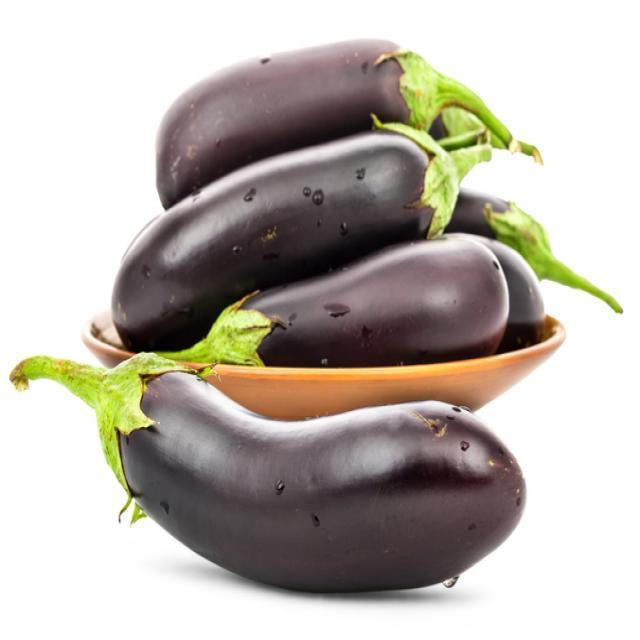eggplant: (136, 44, 618, 366), (11, 324, 524, 598)
